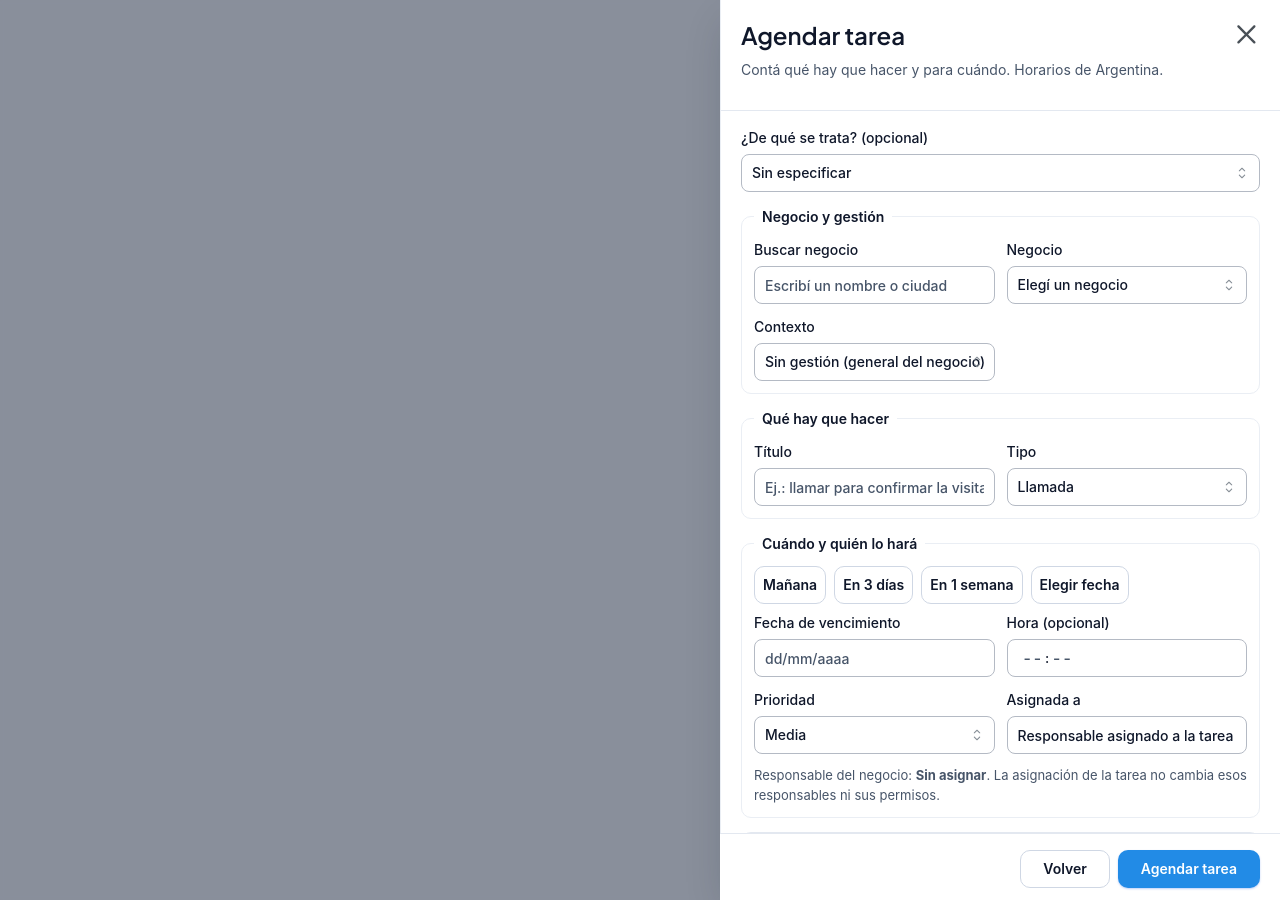
Test: a business search with a single result offers it in one click (spec 104, 32; review M2: never picked by itself) › a single «No contactar» result shows the No contactar mark next to the action
Type "sol" into the field labelled "Buscar negocio" at (874, 285), box x1=754 y1=266 x2=994 y2=304
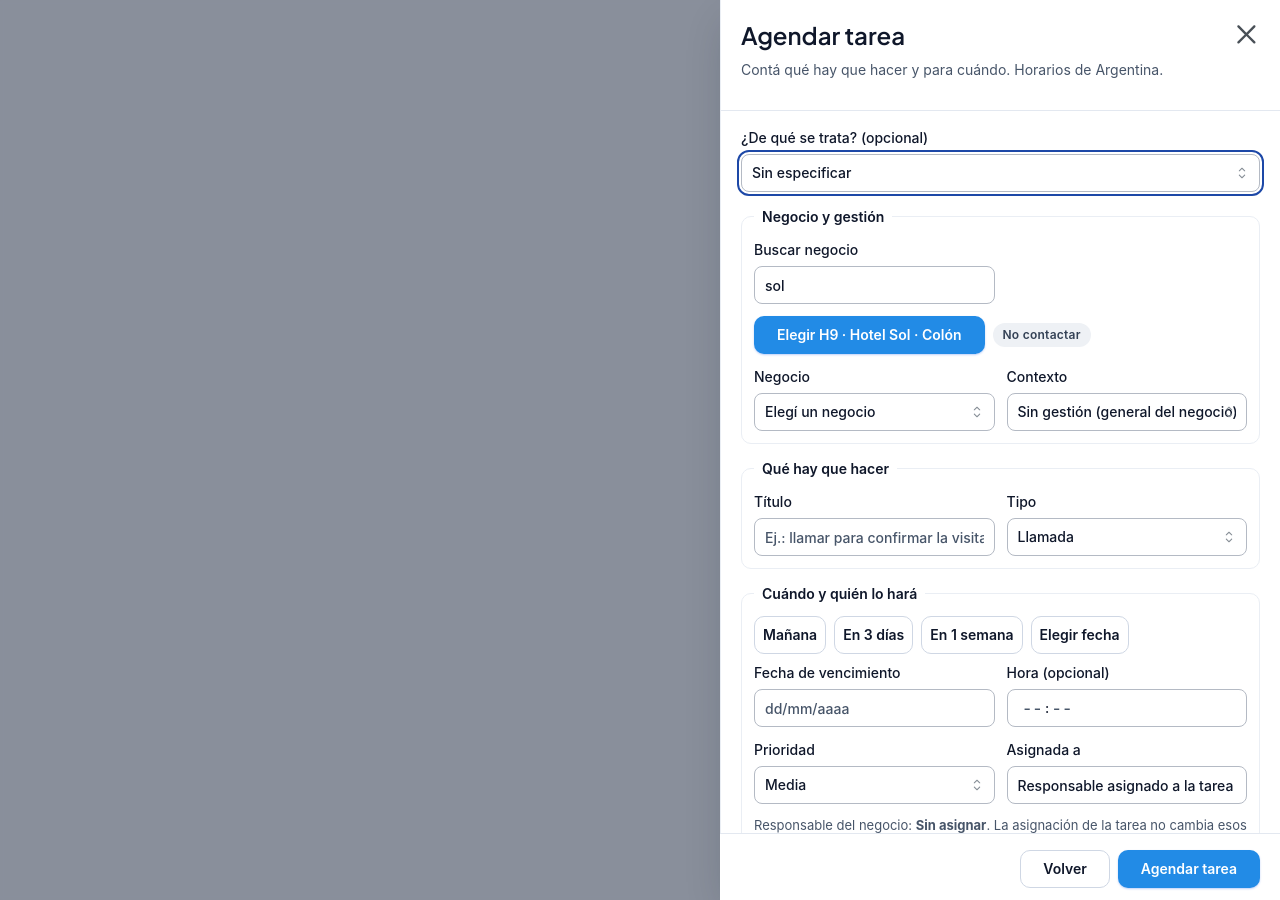
Now the button "Elegir H9 · Hotel Sol · Colón" is shown, box x1=754 y1=316 x2=984 y2=354
Now the text "No contactar" is shown, box x1=1002 y1=327 x2=1081 y2=344
